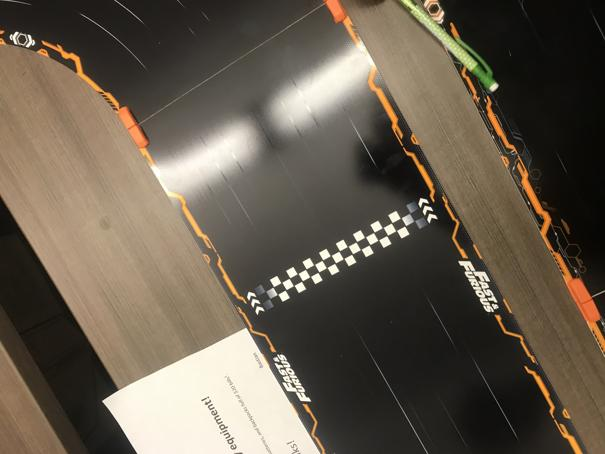Finish Line: (245, 193, 439, 317)
